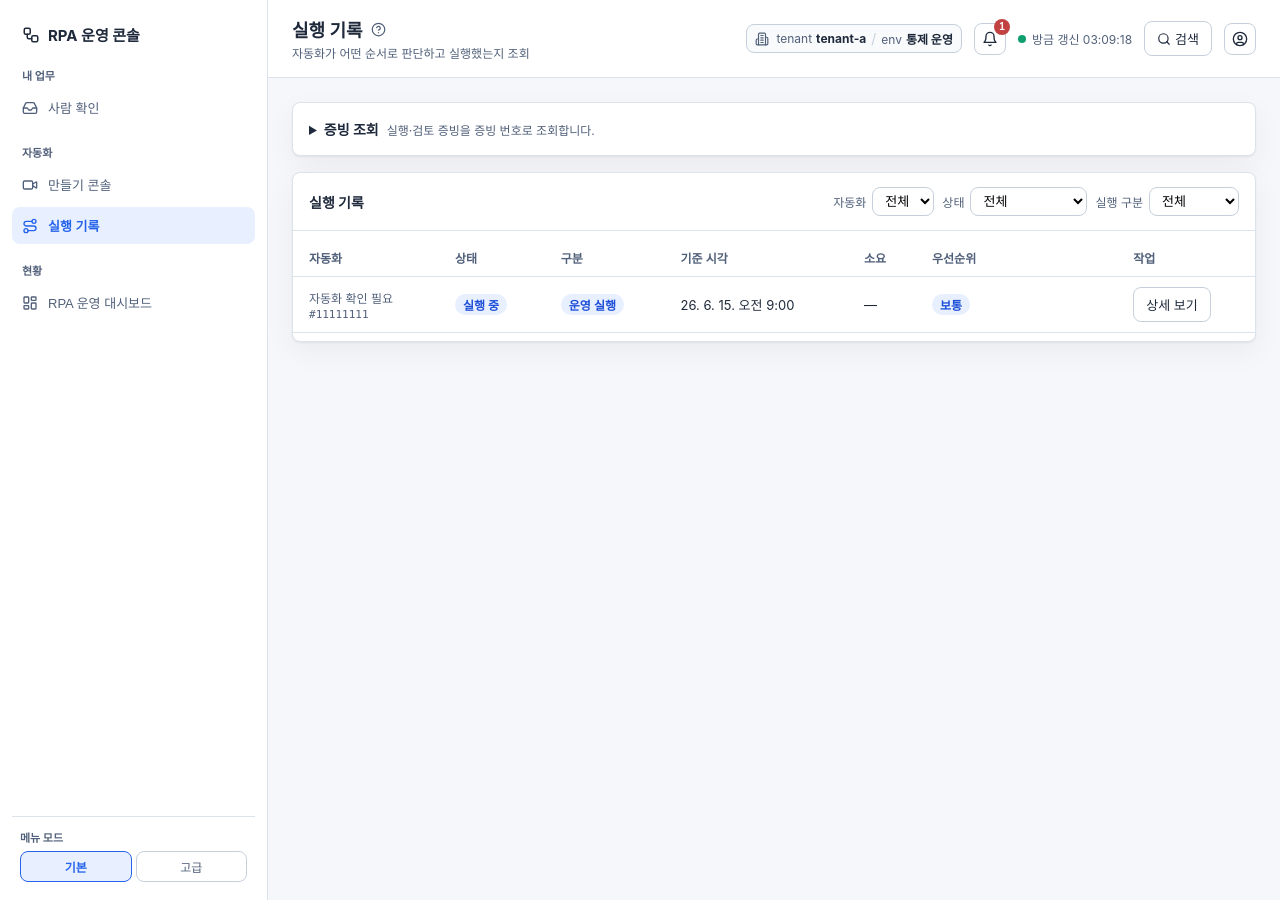
Test case: 실행 상세 상태 패널 — 터미널 상태(F3) › failed_system + 미매핑 failure_reason → generic + 진단 코드와 메시지를 상태 패널에 표시
The image size is (1280, 900).
Click the button with aria-label "실행 추적 상세 보기" at [1172, 304], box [1133,287,1211,322]
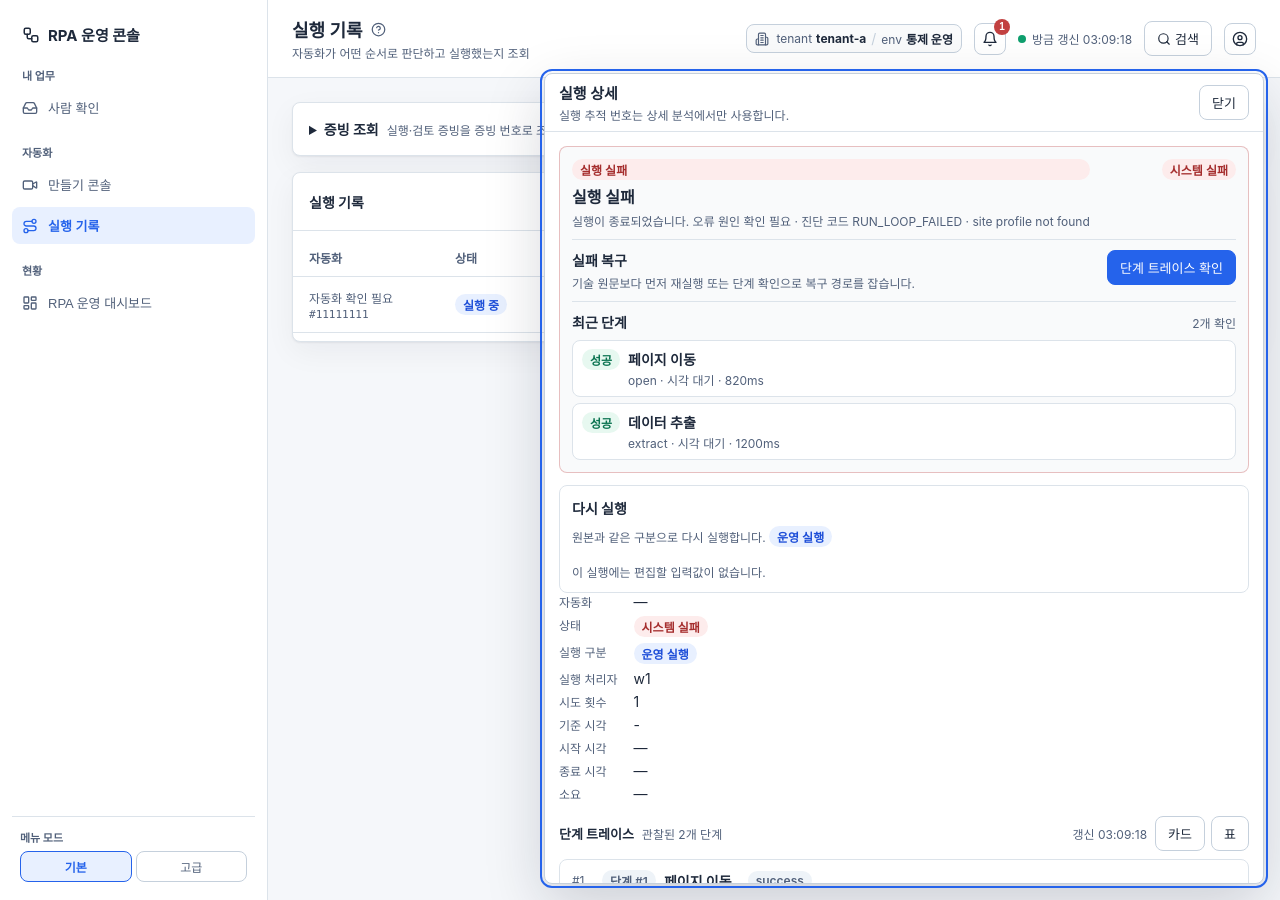
Now the element named "테스트 실행 상태" shows "오류 원인 확인 필요", box [572,214,1090,229]
Now the element named "테스트 실행 상태" shows "진단 코드 RUN_LOOP_FAILED", box [572,214,1090,229]
Now the element named "테스트 실행 상태" shows "site profile not found", box [572,214,1090,229]
